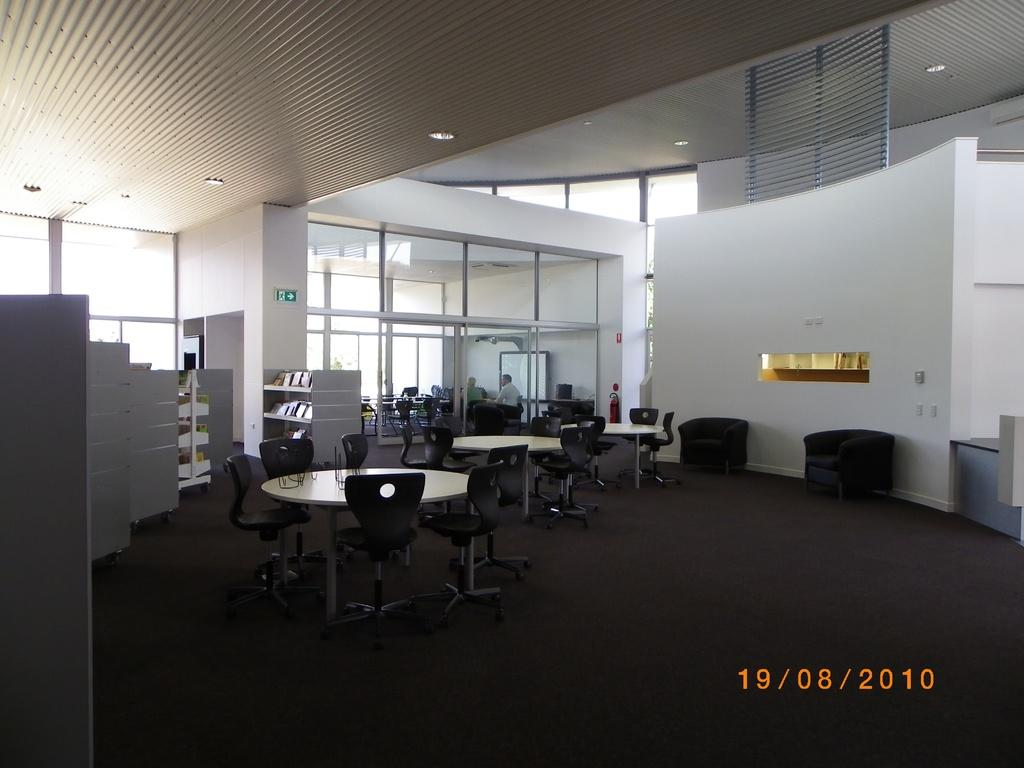Chair: (803, 428, 894, 500), (677, 416, 748, 475)
